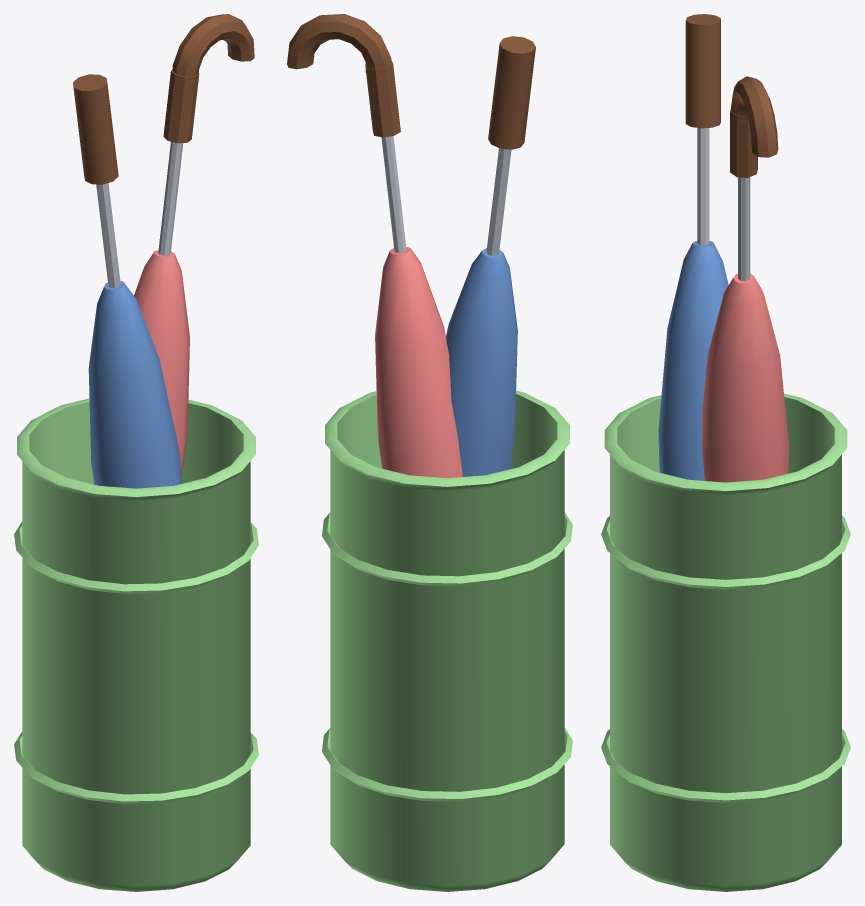
File: umbrella_stand.glb
3 renders of one model, left to right at view 1: azimuth 30°, elevation 25°; view 2: azimuth 150°, elevation 25°; view 3: azimuth 270°, elevation 25°, orthographic. The views are drawn at different scales.
Visible parts, largest first — view 1: stand, blue, walnut, coral, chrome; view 2: stand, coral, blue, walnut, chrome; view 3: stand, coral, blue, walnut, chrome.
Part boxes in pixels (left/top/right/bottom): stand: left=14, top=398, right=258, bottom=891; blue: left=88, top=281, right=182, bottom=488; walnut: left=73, top=14, right=254, bottom=184; coral: left=134, top=250, right=189, bottom=475; chrome: left=96, top=141, right=183, bottom=288; stand: left=322, top=390, right=572, bottom=891; coral: left=375, top=246, right=462, bottom=477; blue: left=446, top=248, right=517, bottom=476; walnut: left=287, top=14, right=535, bottom=149; chrome: left=381, top=136, right=511, bottom=255; stand: left=601, top=393, right=850, bottom=891; coral: left=702, top=273, right=789, bottom=482; blue: left=658, top=241, right=728, bottom=480; walnut: left=685, top=14, right=778, bottom=177; chrome: left=697, top=128, right=750, bottom=281.
Bounding box in the file's own units: 0.3132 × 0.9896 × 0.276.
